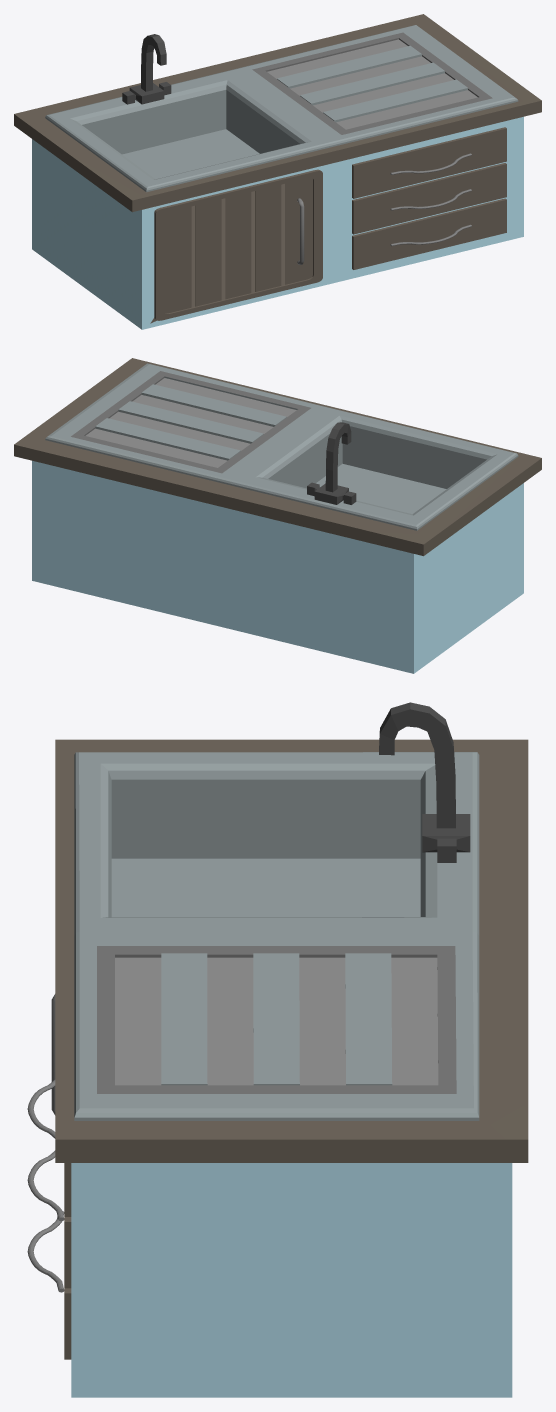
The model's file is Sink.fbx.
3 views of the same model, one above another, from view 1: azimuth 30°, elevation 25°; view 2: azimuth 150°, elevation 25°; view 3: azimuth 270°, elevation 25° (orthographic). The views are drawn at different scales.
Visible parts, largest first — view 1: Sink; view 2: Sink; view 3: Sink.
Boxes of the visible parts, x1,y1,x2,y2 form: Sink: [14, 14, 541, 329]; Sink: [14, 358, 541, 673]; Sink: [27, 702, 528, 1397].
Bounding box in the file's own units: 183 × 167 × 346.
